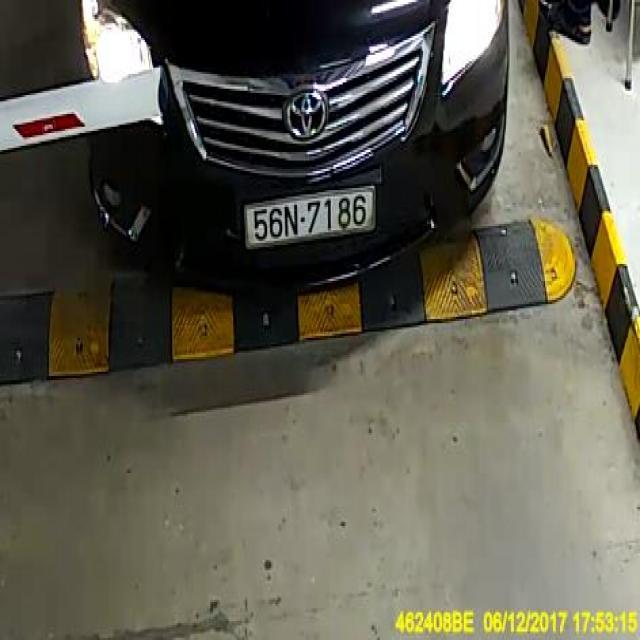car: (66, 0, 521, 291)
plate: (241, 190, 381, 250)
